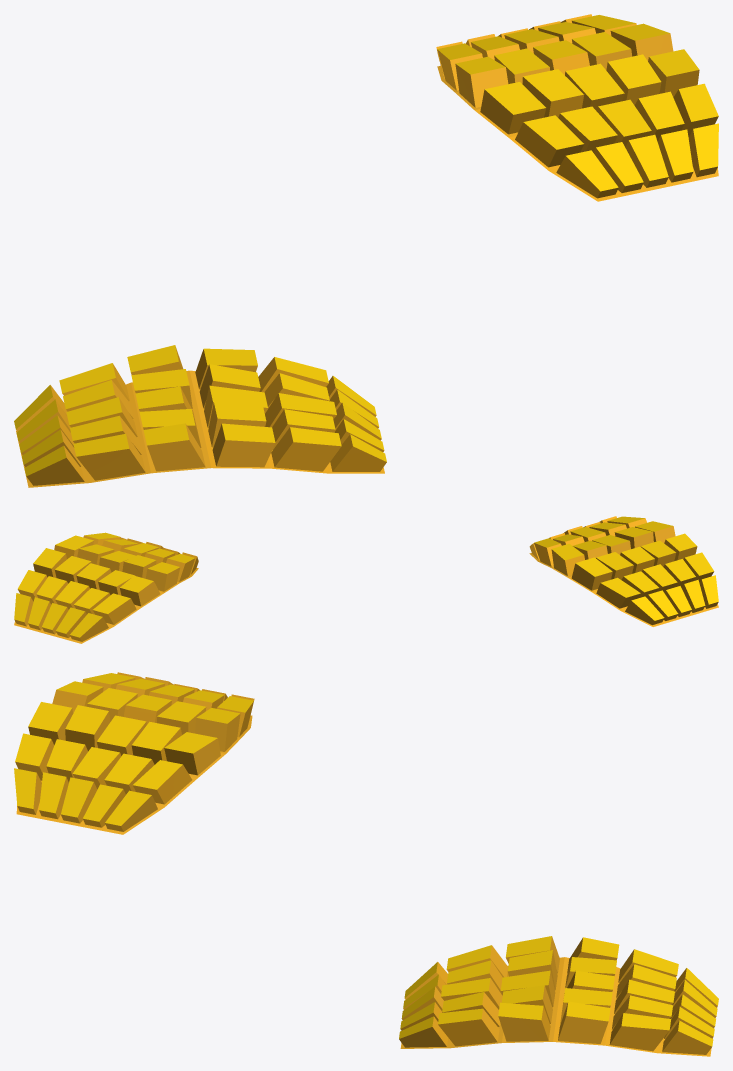
The model's file is Mangoes.fbx.
The picture shows the model from 3 angles, top to bottom: view 1: azimuth 30°, elevation 25°; view 2: azimuth 150°, elevation 25°; view 3: azimuth 270°, elevation 25°; orthographic projection. The views are drawn at different scales.
Parts seen in each view (by area): view 1: Plane.011, Plane.005, Plane.006, Plane.015, Plane.014, Plane.012, Plane.010, Plane.009, Plane.007, Plane.008, Plane.013, Plane.016; view 2: Plane.006, Plane.012, Plane.016, Plane.010, Plane.005, Plane.011, Plane.013, Plane.007, Plane.009, Plane.015, Plane.014, Plane.008; view 3: Plane.005, Plane.011, Plane.012, Plane.009, Plane.008, Plane.016, Plane.006, Plane.015, Plane.013, Plane.014, Plane.010, Plane.007.
Boxes of the visible parts, x1,y1,x2,y2 form: Plane.011: (474, 57, 718, 201); Plane.005: (190, 349, 386, 473); Plane.006: (16, 347, 211, 487); Plane.015: (485, 63, 651, 191); Plane.014: (608, 49, 718, 180); Plane.012: (436, 14, 673, 109); Plane.010: (14, 345, 195, 476); Plane.009: (209, 385, 386, 461); Plane.007: (19, 363, 189, 452); Plane.008: (203, 348, 381, 438); Plane.013: (505, 15, 635, 59); Plane.016: (437, 23, 669, 74); Plane.006: (568, 539, 718, 626); Plane.012: (14, 554, 163, 643); Plane.016: (14, 548, 153, 637); Plane.010: (575, 533, 718, 620); Plane.005: (529, 516, 675, 577); Plane.011: (54, 535, 198, 592); Plane.013: (18, 556, 109, 629); Plane.007: (596, 546, 691, 612); Plane.009: (571, 516, 672, 546); Plane.015: (100, 543, 194, 573); Plane.014: (55, 532, 137, 553); Plane.008: (534, 534, 605, 560); Plane.005: (15, 708, 225, 834); Plane.011: (399, 936, 564, 1048); Plane.012: (553, 938, 717, 1056); Plane.009: (14, 702, 146, 813); Plane.008: (61, 721, 217, 825); Plane.016: (566, 937, 718, 1046); Plane.006: (52, 672, 254, 753); Plane.015: (403, 936, 552, 1008); Plane.013: (563, 971, 715, 1030); Plane.014: (399, 985, 544, 1038); Plane.010: (56, 673, 239, 723); Plane.007: (126, 684, 253, 722).
Bounding box in the file's own units: 520 × 34.4 × 412.
Materials: 1 (1 with a texture image).
